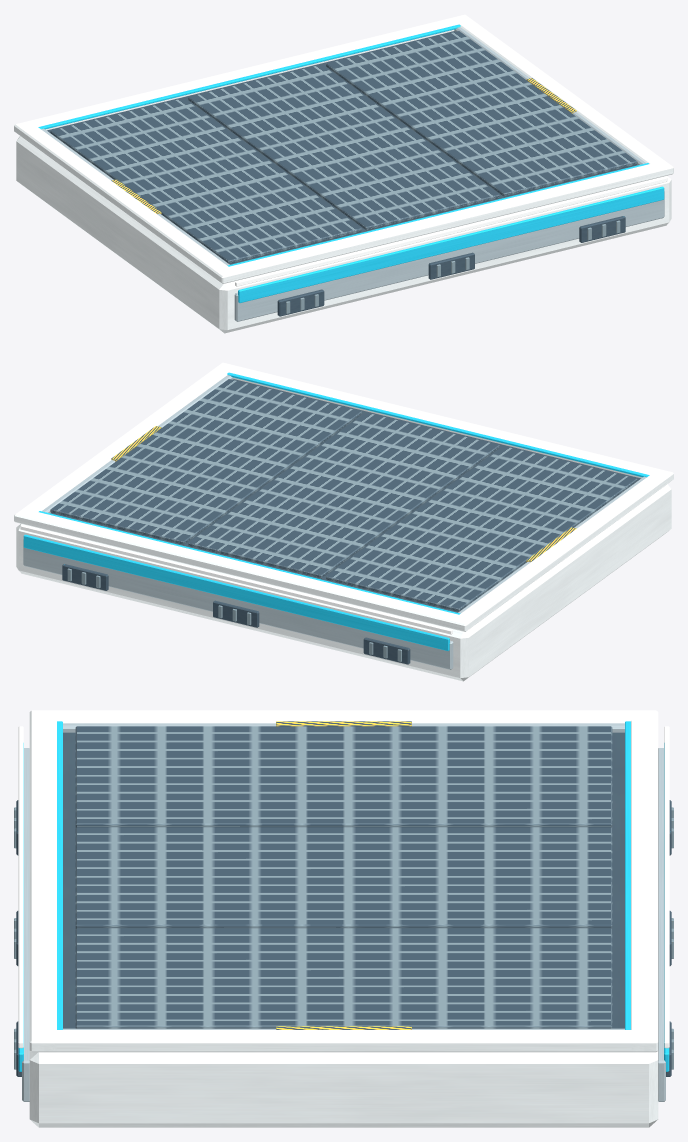
File: platform-grate-3m.glb
The picture shows the model from 3 angles, top to bottom: view 1: azimuth 30°, elevation 25°; view 2: azimuth 150°, elevation 25°; view 3: azimuth 270°, elevation 25°; orthographic projection. The views are drawn at different scales.
Parts seen in each view (by area): view 1: platform-grate-3m; view 2: platform-grate-3m; view 3: platform-grate-3m.
Boxes of the visible parts, x1,y1,x2,y2 form: platform-grate-3m: (14, 14, 673, 333); platform-grate-3m: (14, 362, 673, 681); platform-grate-3m: (14, 710, 673, 1127).
Size of the model in its own units: 3 by 0.5375 by 2.52.
Materials: 1 (1 with a texture image).
